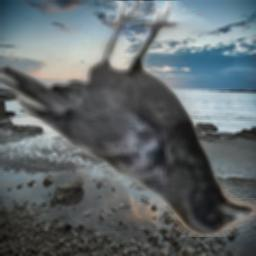Crow: (0, 1, 256, 237)
